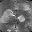people: (4, 9, 15, 17), (0, 16, 10, 24), (17, 15, 25, 23)
